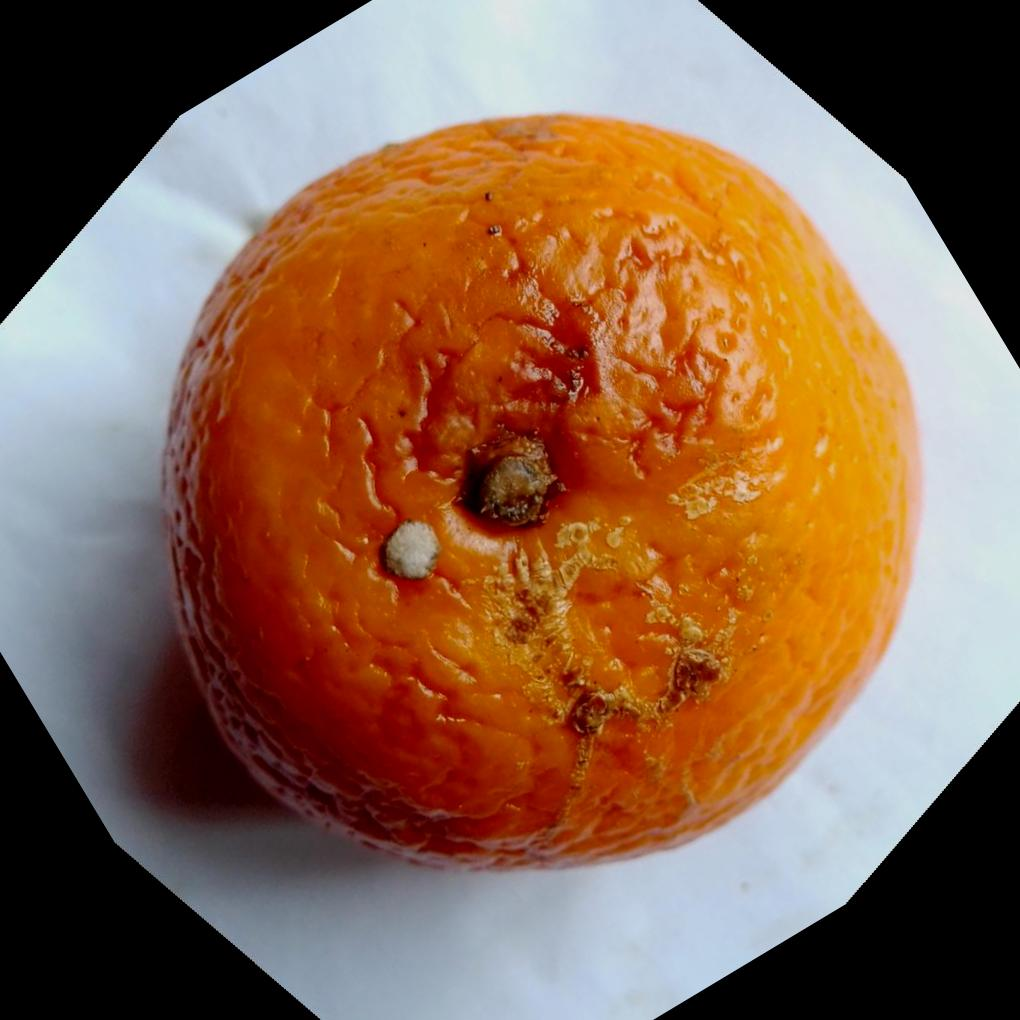FreshOrange: (159, 108, 929, 873)
